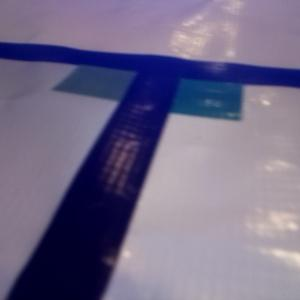bottom_left: (52, 56, 173, 102)
bottom_right: (138, 63, 243, 120)
